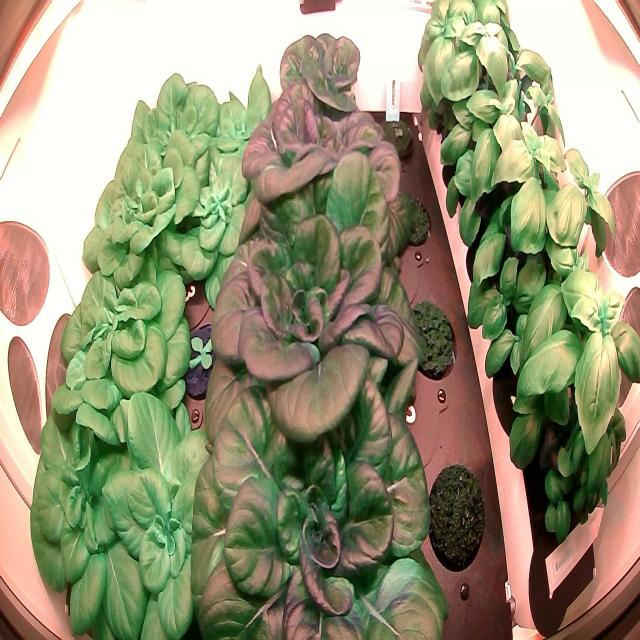Ready: (178, 334, 455, 640), (200, 147, 438, 459), (236, 75, 407, 249), (262, 13, 378, 162)
germination: (379, 111, 418, 167)
pod: (420, 452, 491, 579), (402, 288, 461, 392), (394, 188, 434, 257)
young: (100, 398, 243, 640), (28, 407, 150, 637), (48, 244, 191, 437), (81, 140, 200, 313), (166, 151, 269, 313), (123, 56, 221, 208), (196, 56, 297, 176), (173, 312, 226, 404)
